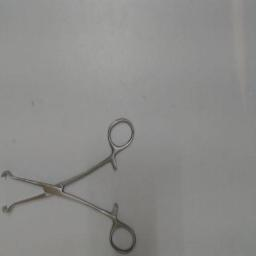Babcock Tissue Forceps: (0, 112, 140, 254)
